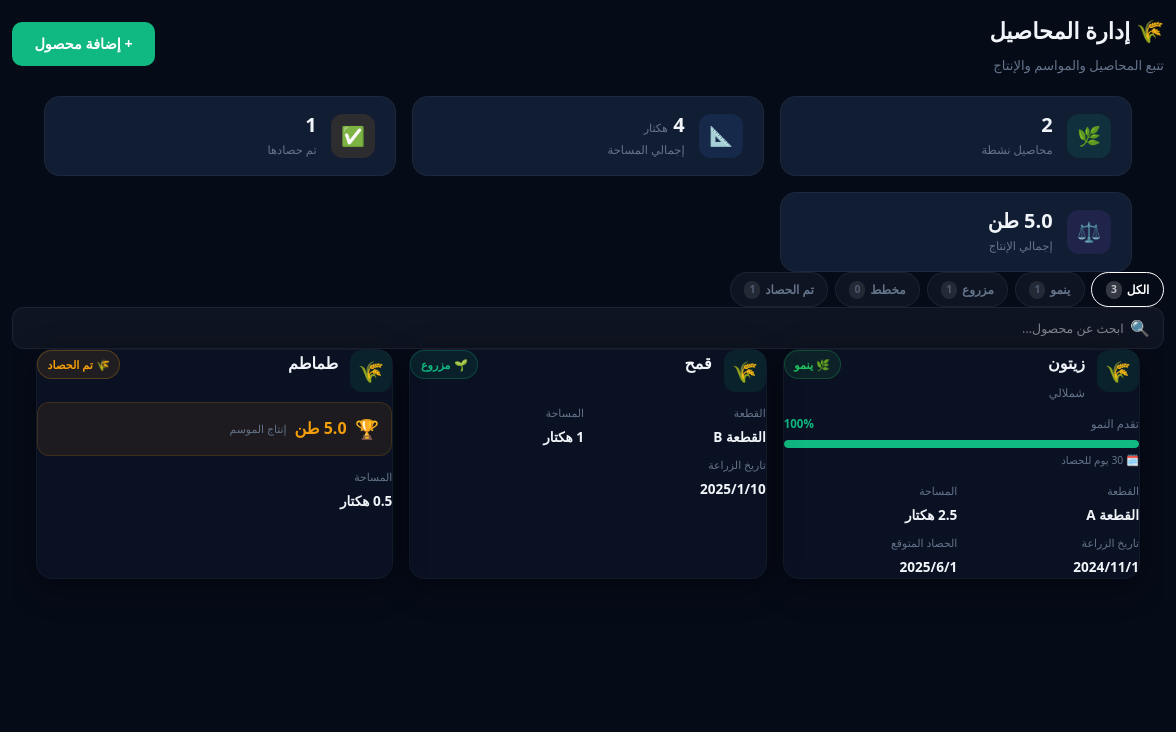
Scenario: ClientCrops › filters crops by search text
The width and height of the screenshot is (1176, 732).
Step 1. Type "زيتون" into the field with placeholder "ابحث عن محصول..." → (575, 328), box [26,318,1124,339]
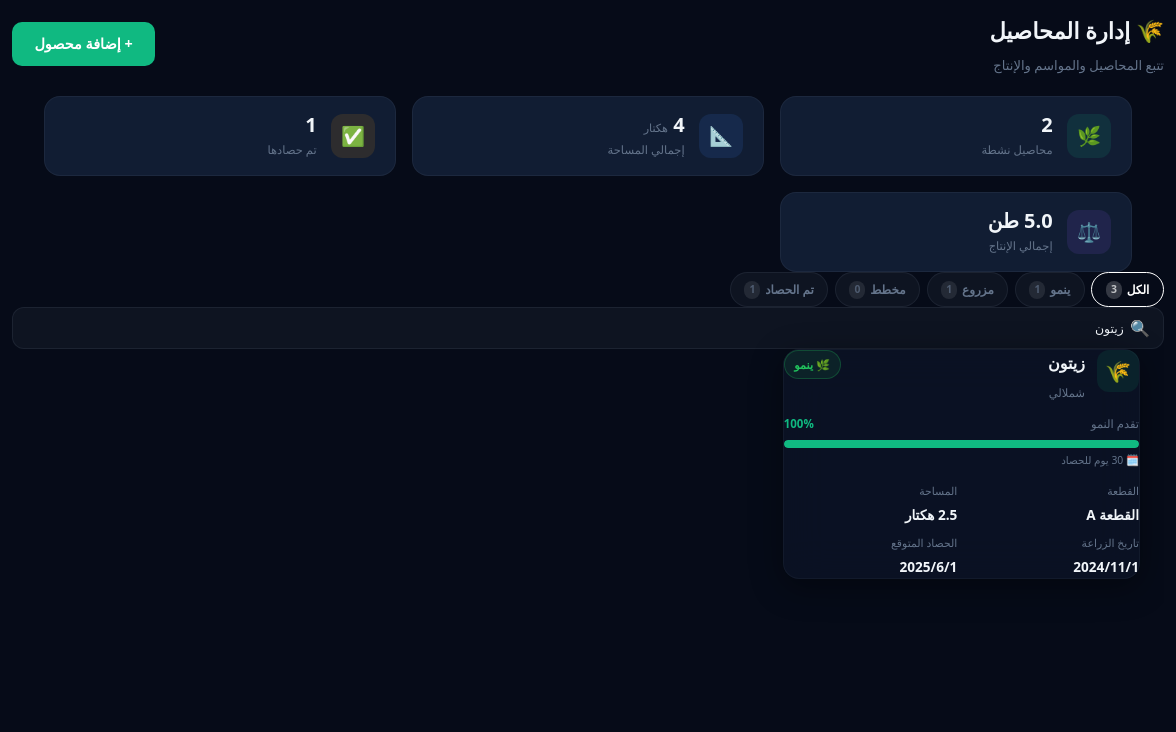
Expected: the heading "زيتون" is shown, [1048,352,1085,374]
Result: the link "قمح" is gone
